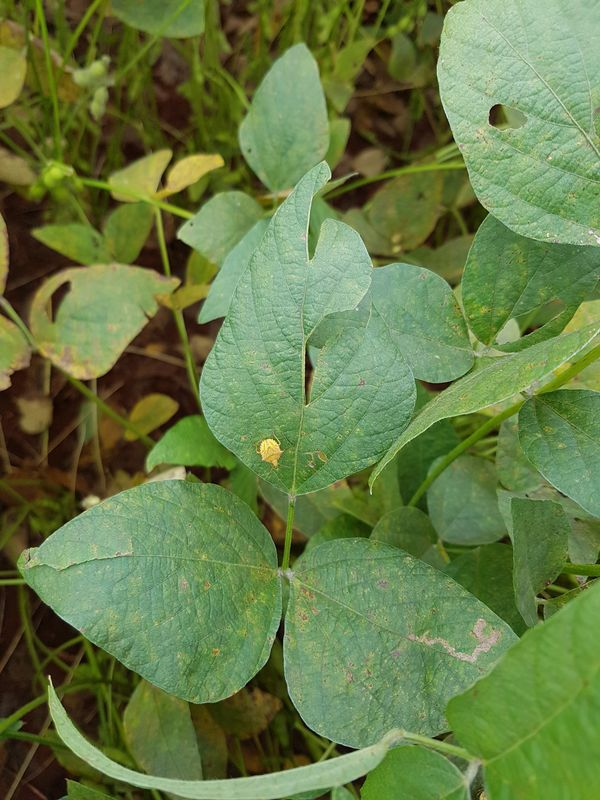Euschistus_heros_ninfa: (250, 428, 290, 474)
